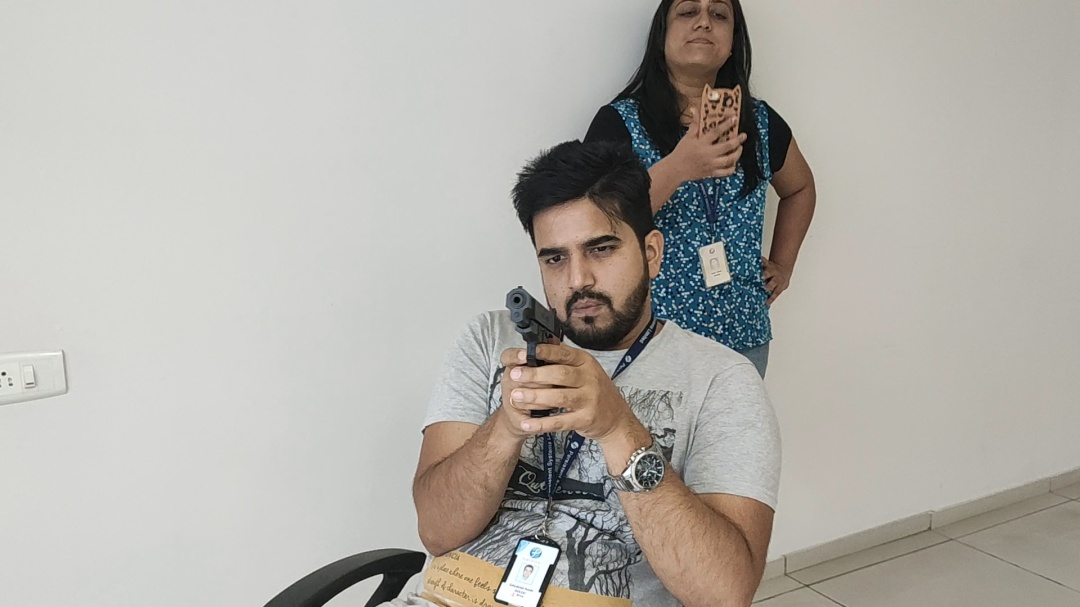gun: (506, 283, 567, 347)
